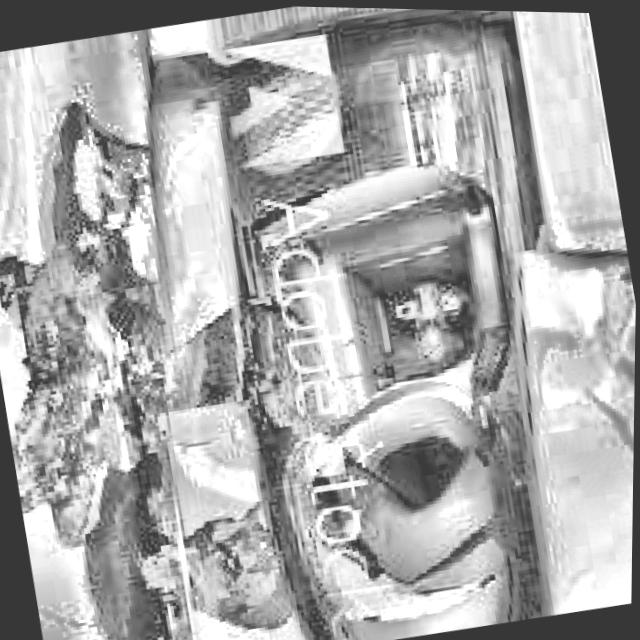tail_lamp: (236, 160, 562, 640)
